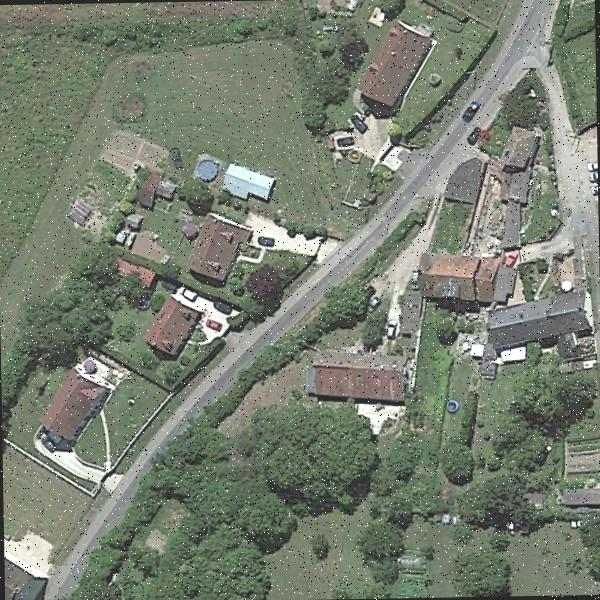Buildings: (34, 359, 116, 438), (314, 350, 406, 396), (369, 30, 425, 98), (422, 252, 504, 298), (494, 306, 586, 343), (4, 526, 49, 600), (146, 302, 204, 352), (502, 131, 526, 241), (194, 226, 240, 273), (222, 162, 268, 198)
